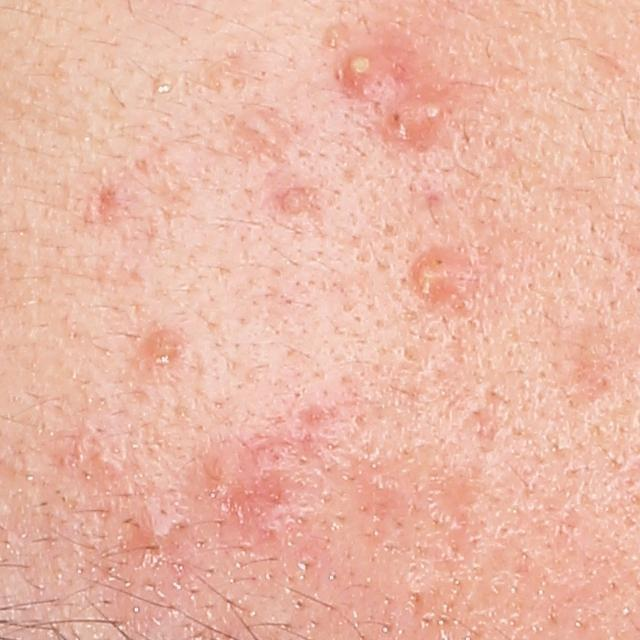comedo: (321, 20, 349, 47), (150, 77, 175, 98)
papule: (233, 109, 284, 155), (141, 322, 182, 368)
pustule: (331, 49, 399, 96), (412, 257, 456, 297)
